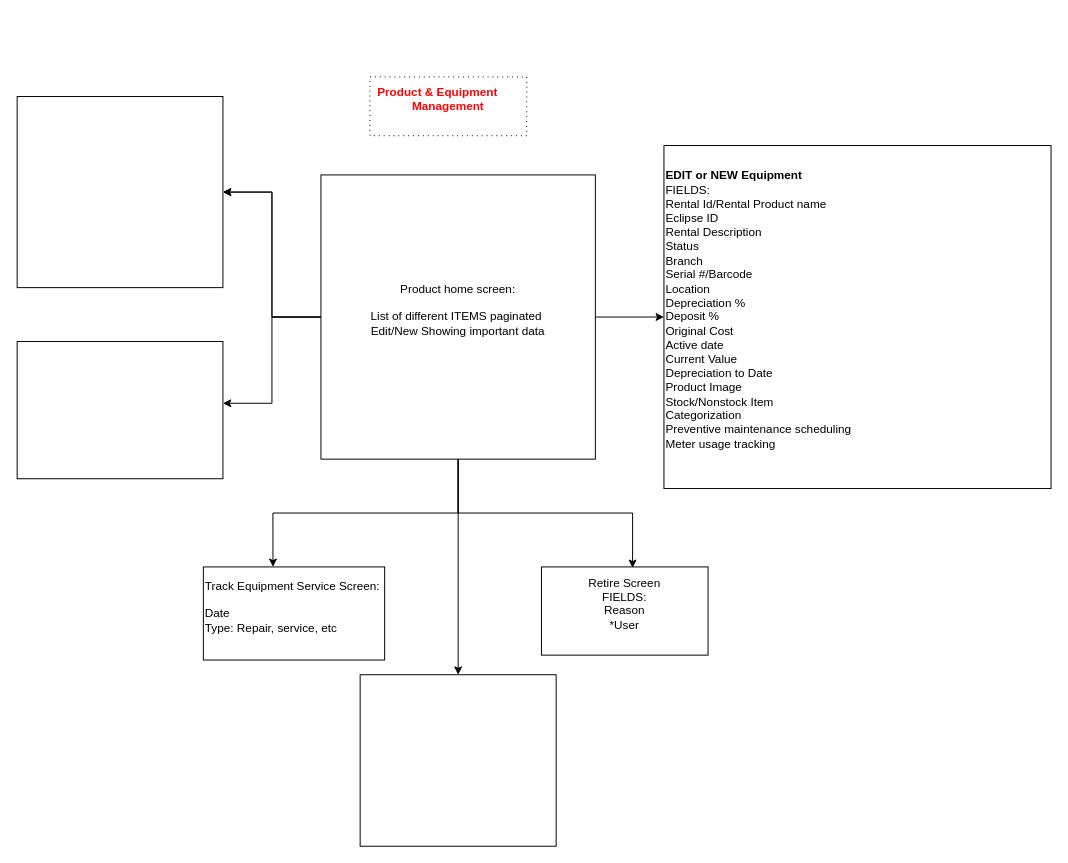
The diagram is 1068 pixels wide and 863 high, and some of its shapes have lost their labels. Each missing label, with the centre of its shape:
"History/Track of Rentals List all different rentals devices has been part of" belongs at [457,760].
"Log of changes made Table with user, date and change made" belongs at [119,410].
"Track Equipment : Show a map (open maps) where the items is located" belongs at [119,192].
